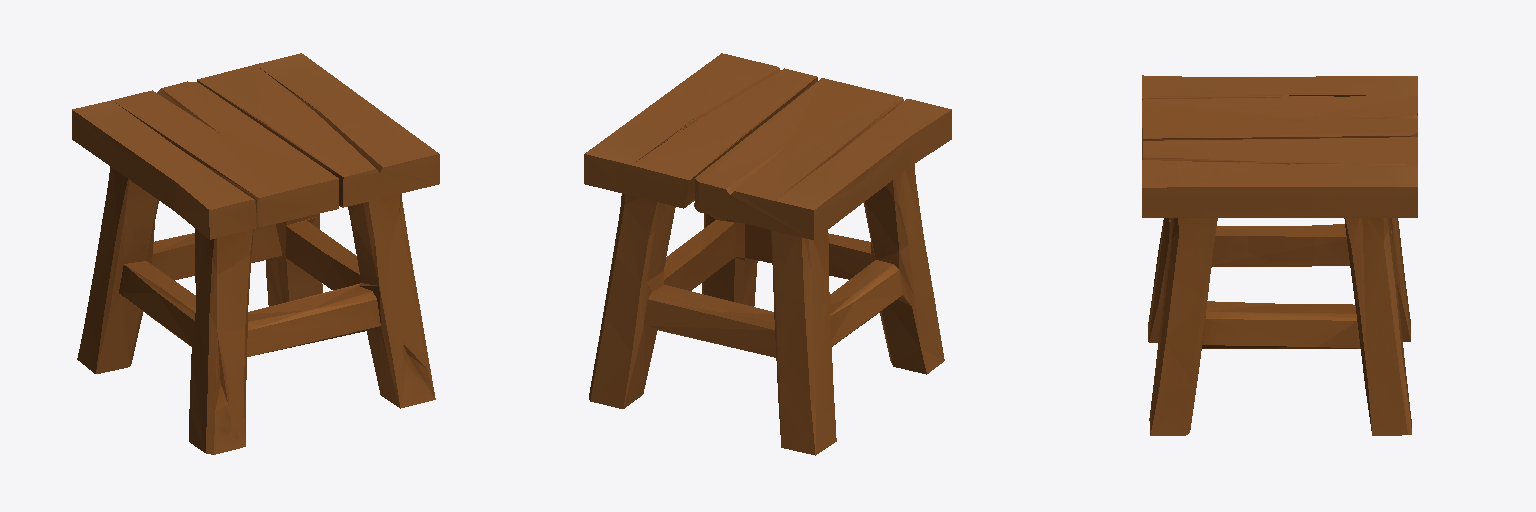
The picture shows the model from 3 angles: view 1: azimuth 30°, elevation 25°; view 2: azimuth 150°, elevation 25°; view 3: azimuth 270°, elevation 25°; orthographic projection.
Visible parts, largest first — view 1: texture_pbr_v128; view 2: texture_pbr_v128; view 3: texture_pbr_v128.
Part boxes in pixels (bbox=[...]): texture_pbr_v128: bbox=[72, 53, 439, 454]; texture_pbr_v128: bbox=[584, 53, 951, 455]; texture_pbr_v128: bbox=[1142, 75, 1417, 435].
Bounding box in the file's own units: 0.6809 × 0.7031 × 0.7045.
Materials: 1 (1 with a texture image).